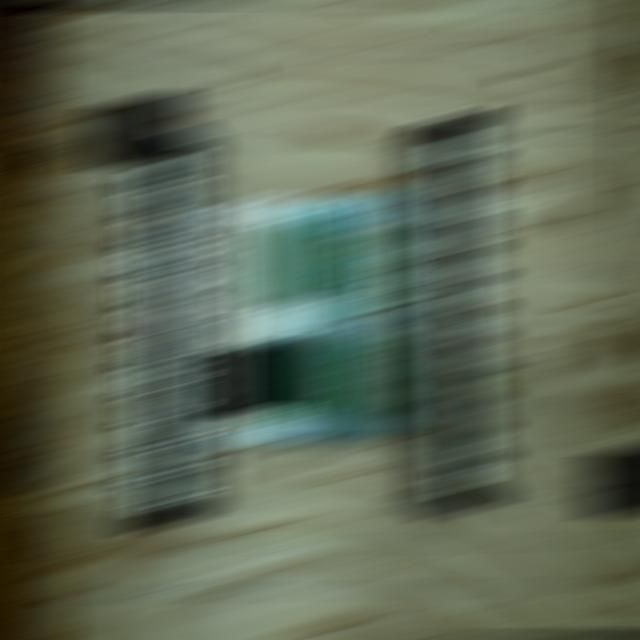Flathead_Block: (418, 116, 501, 510)
Phillips_Block: (120, 131, 200, 525)
Terminal_1: (348, 233, 390, 311), (350, 341, 390, 418)
Terminal_2: (275, 344, 315, 416), (297, 223, 337, 294), (274, 222, 314, 293), (251, 343, 290, 415), (300, 344, 339, 414)
